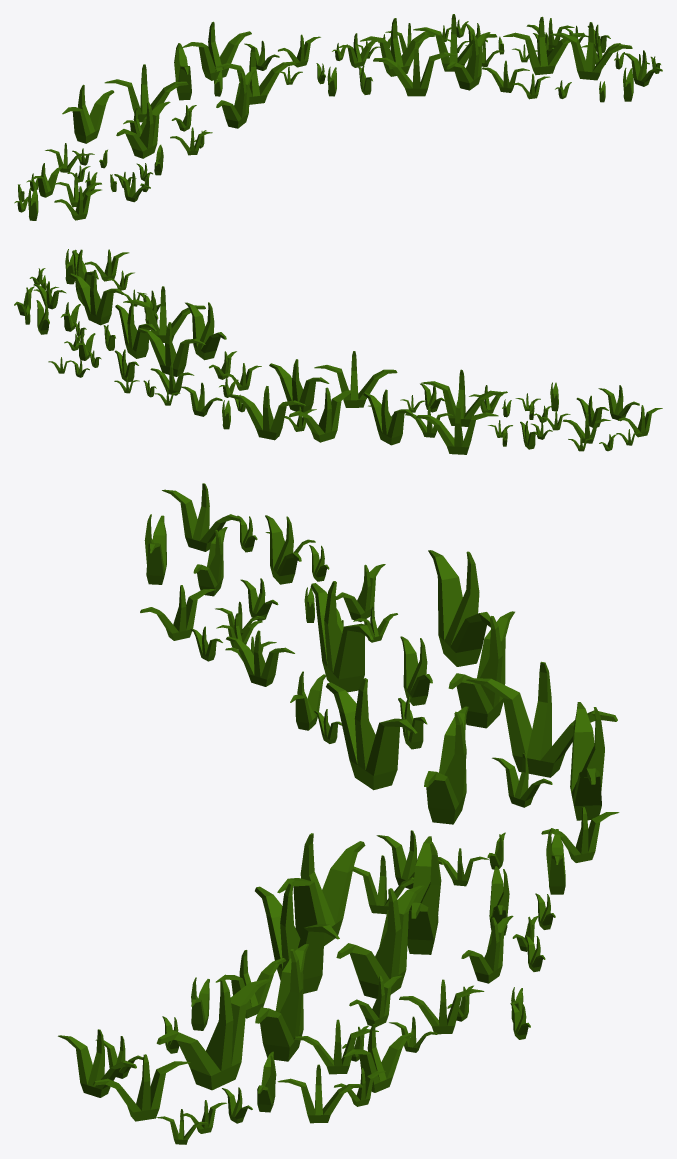
Rendered from hierba_C_A.fbx.
3 views of the same model, one above another, from view 1: azimuth 30°, elevation 25°; view 2: azimuth 150°, elevation 25°; view 3: azimuth 270°, elevation 25° (orthographic). The views are drawn at different scales.
Visible parts, largest first — view 1: C_A; view 2: C_A; view 3: C_A.
Boxes of the visible parts, x1,y1,x2,y2 form: C_A: (14,14,662,220); C_A: (14,249,662,454); C_A: (58,483,619,1144).
Bounding box in the file's own units: 166 × 14.09 × 65.03.
